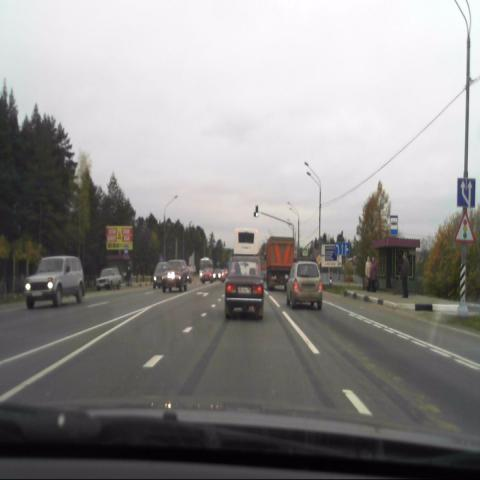5_15_3: (456, 178, 475, 206)
